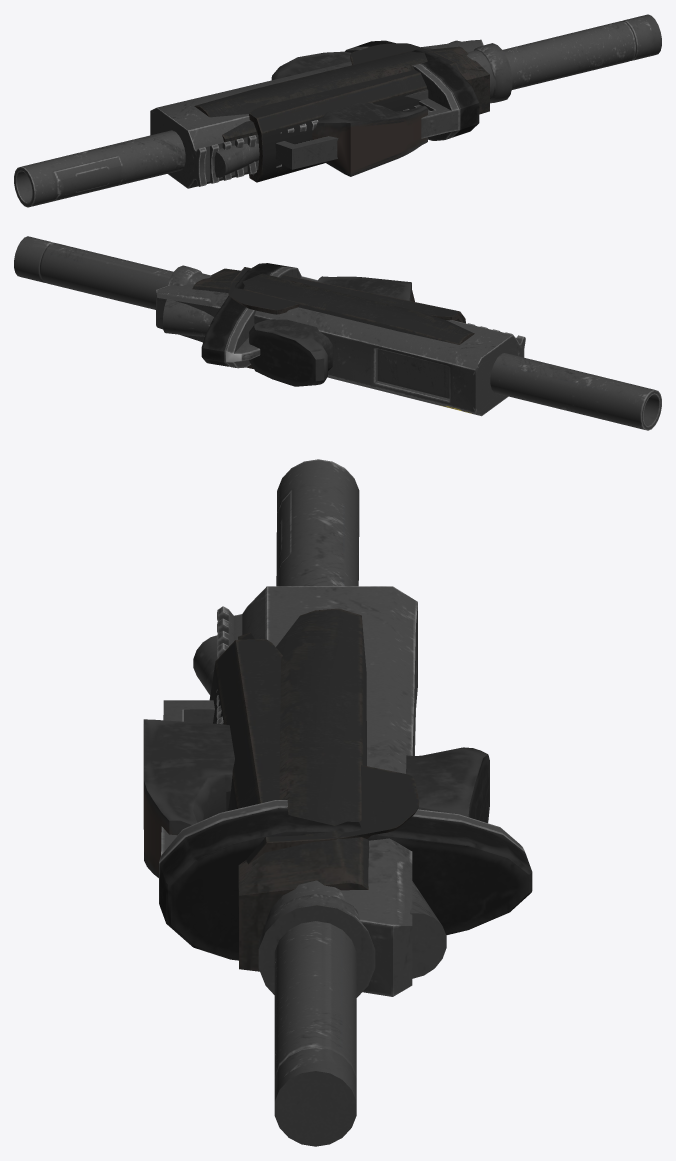
Rendered from shotgun.obj.
3 renders of one model, top to bottom at view 1: azimuth 30°, elevation 25°; view 2: azimuth 150°, elevation 25°; view 3: azimuth 270°, elevation 25°, orthographic. The views are drawn at different scales.
Visible parts, largest first — view 1: defaultMaterial.022, defaultMaterial.003, defaultMaterial.011, defaultMaterial.012, defaultMaterial.013, defaultMaterial.007, defaultMaterial.021, defaultMaterial.008; view 2: defaultMaterial.012, defaultMaterial.022, defaultMaterial.013, defaultMaterial.011, defaultMaterial.007, defaultMaterial.003, defaultMaterial.008, defaultMaterial.021; view 3: defaultMaterial.022, defaultMaterial.007, defaultMaterial.013, defaultMaterial.012, defaultMaterial.011, defaultMaterial.003, defaultMaterial.021, defaultMaterial.008.
Boxes of the visible parts, left/top/right/bottom form: defaultMaterial.022: left=14, top=14, right=661, bottom=207; defaultMaterial.003: left=249, top=43, right=460, bottom=182; defaultMaterial.011: left=271, top=51, right=427, bottom=176; defaultMaterial.012: left=150, top=39, right=483, bottom=188; defaultMaterial.013: left=194, top=46, right=489, bottom=142; defaultMaterial.007: left=275, top=40, right=479, bottom=169; defaultMaterial.021: left=466, top=43, right=512, bottom=103; defaultMaterial.008: left=214, top=40, right=460, bottom=177; defaultMaterial.012: left=156, top=284, right=525, bottom=416; defaultMaterial.022: left=14, top=236, right=661, bottom=430; defaultMaterial.013: left=192, top=268, right=474, bottom=344; defaultMaterial.011: left=249, top=276, right=414, bottom=386; defaultMaterial.007: left=201, top=263, right=317, bottom=368; defaultMaterial.003: left=228, top=267, right=465, bottom=368; defaultMaterial.008: left=163, top=298, right=213, bottom=336; defaultMaterial.021: left=166, top=265, right=211, bottom=285; defaultMaterial.022: left=274, top=459, right=359, bottom=1146; defaultMaterial.007: left=159, top=700, right=532, bottom=960; defaultMaterial.013: left=238, top=608, right=369, bottom=971; defaultMaterial.012: left=216, top=586, right=417, bottom=996; defaultMaterial.011: left=143, top=719, right=489, bottom=877; defaultMaterial.003: left=209, top=639, right=419, bottom=864; defaultMaterial.021: left=258, top=880, right=375, bottom=997; defaultMaterial.008: left=193, top=635, right=446, bottom=978.
Bounding box in the file's own units: 25.53 × 2.71 × 6.85.
Materials: 1 (1 with a texture image).
